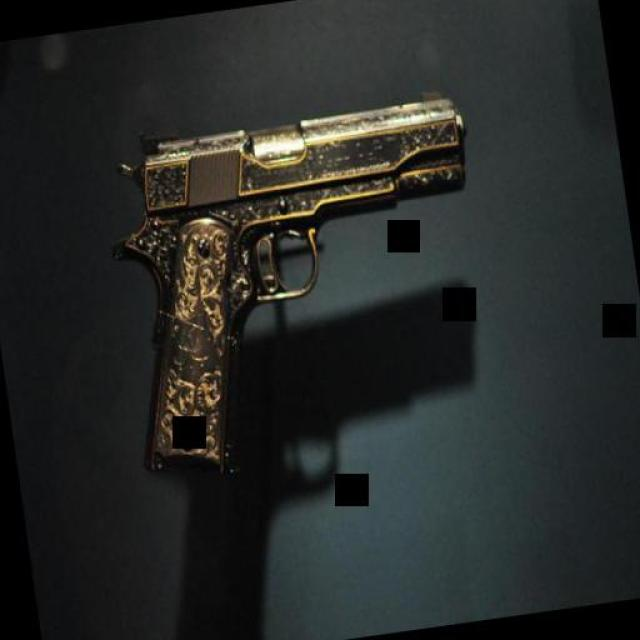gun: (95, 78, 509, 488)
